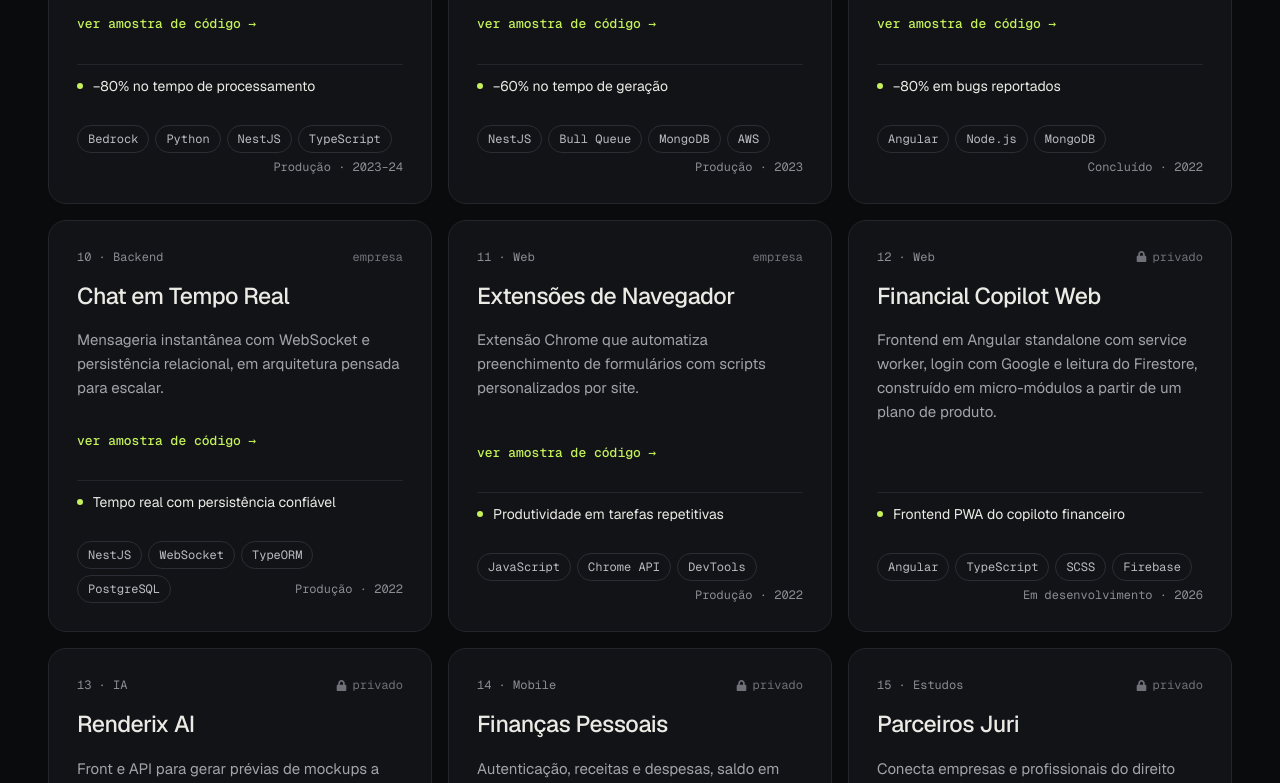
casos com amostra abrem o modal de código
(page scrolled)
Click the button "ver amostra de código →" below "Chat em Tempo Real" at (167, 440), box x1=77 y1=418 x2=256 y2=462
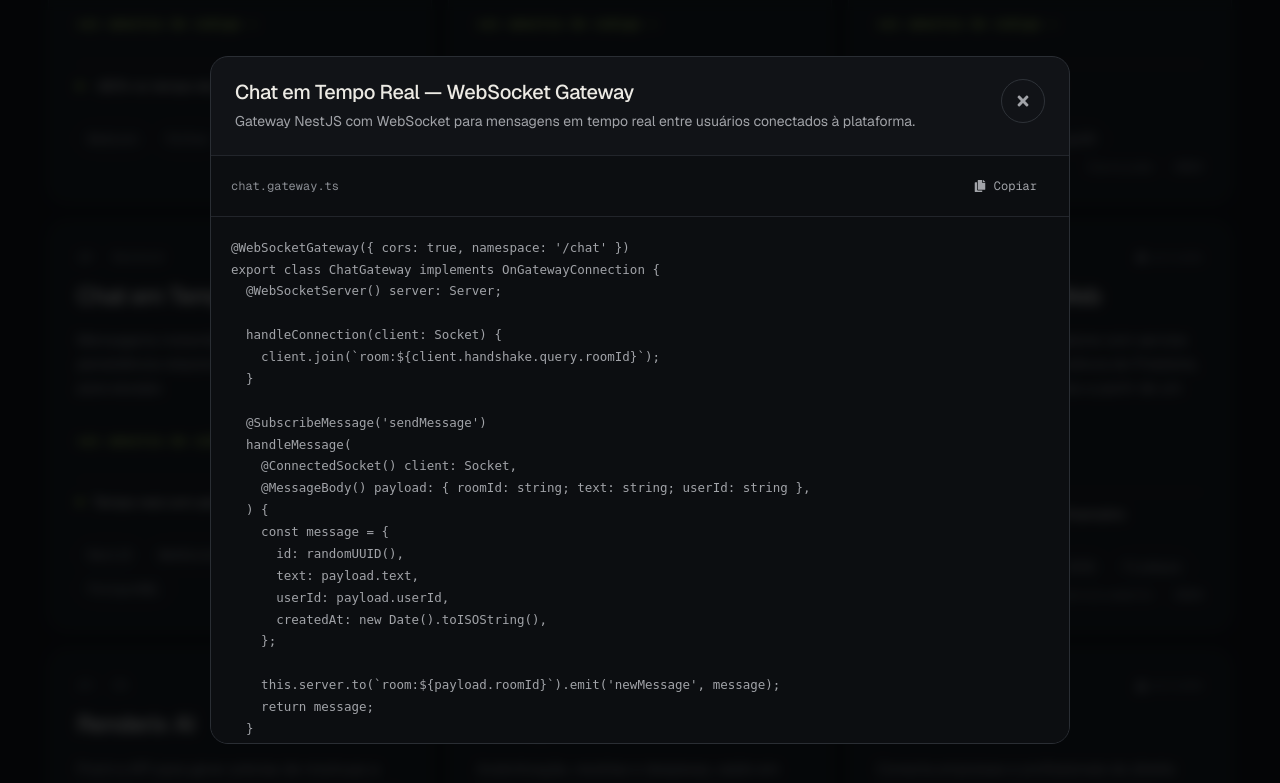
Expected: the dialog is shown, x1=210 y1=56 x2=1070 y2=744
